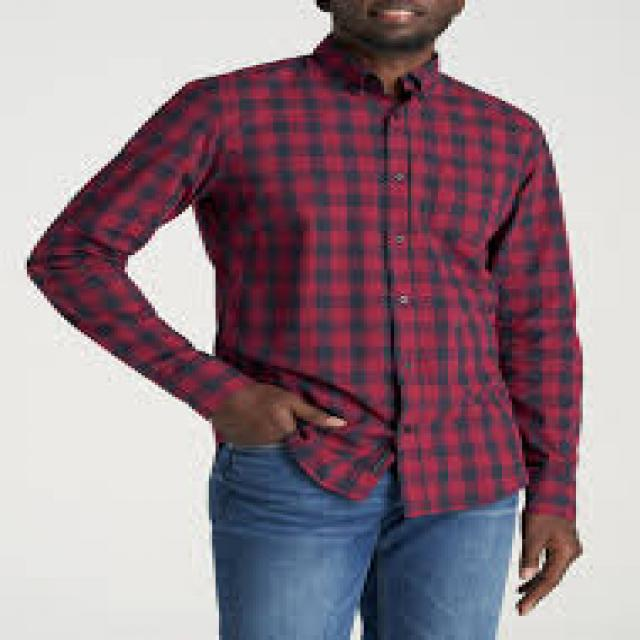plaid: (19, 52, 584, 528)
